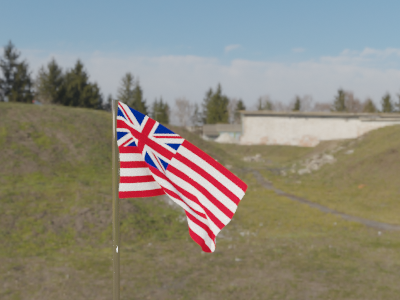Malaysia flag: (114, 100, 250, 256)
